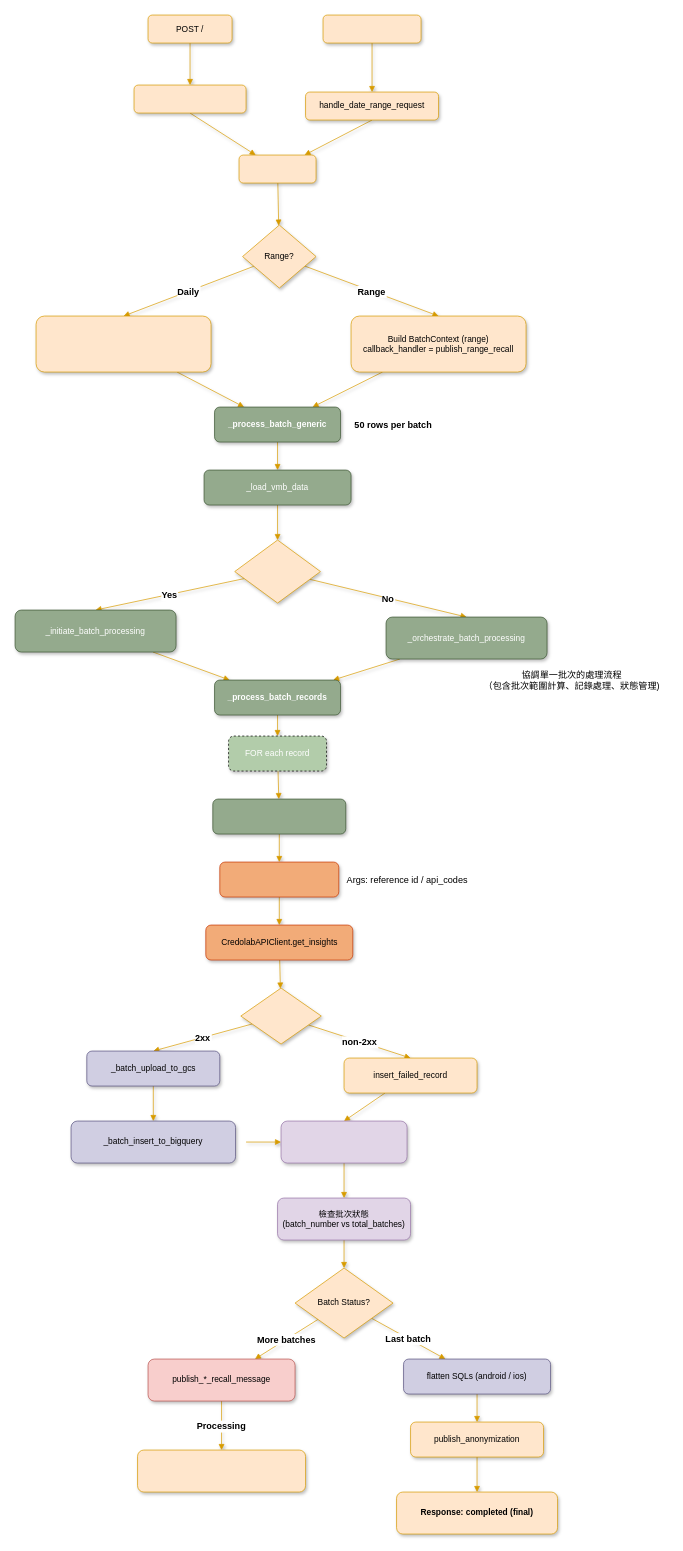
Image size: 683x1551. Some labels were removed from this diagram. The centre of each missing label's shape, as x and y in pixels:
"2xx?" belongs at (x=281, y=1017).
"Build BatchContext (daily) callback_handler = publish_daily_recall" belongs at (x=124, y=345).
"First batch?" belongs at (x=278, y=572).
"get_credolab_insights" belongs at (x=279, y=880).
"handle_daily_request" belongs at (x=190, y=100).
"loop: _call_credolab_api" belongs at (x=279, y=817).
"POST /get_data_range" belongs at (x=372, y=30).
"process()" belongs at (x=278, y=170).
"Response: completed (current batch)" belongs at (x=222, y=1472).
"記錄批次摘要 (success/error counts)" belongs at (x=344, y=1143).
